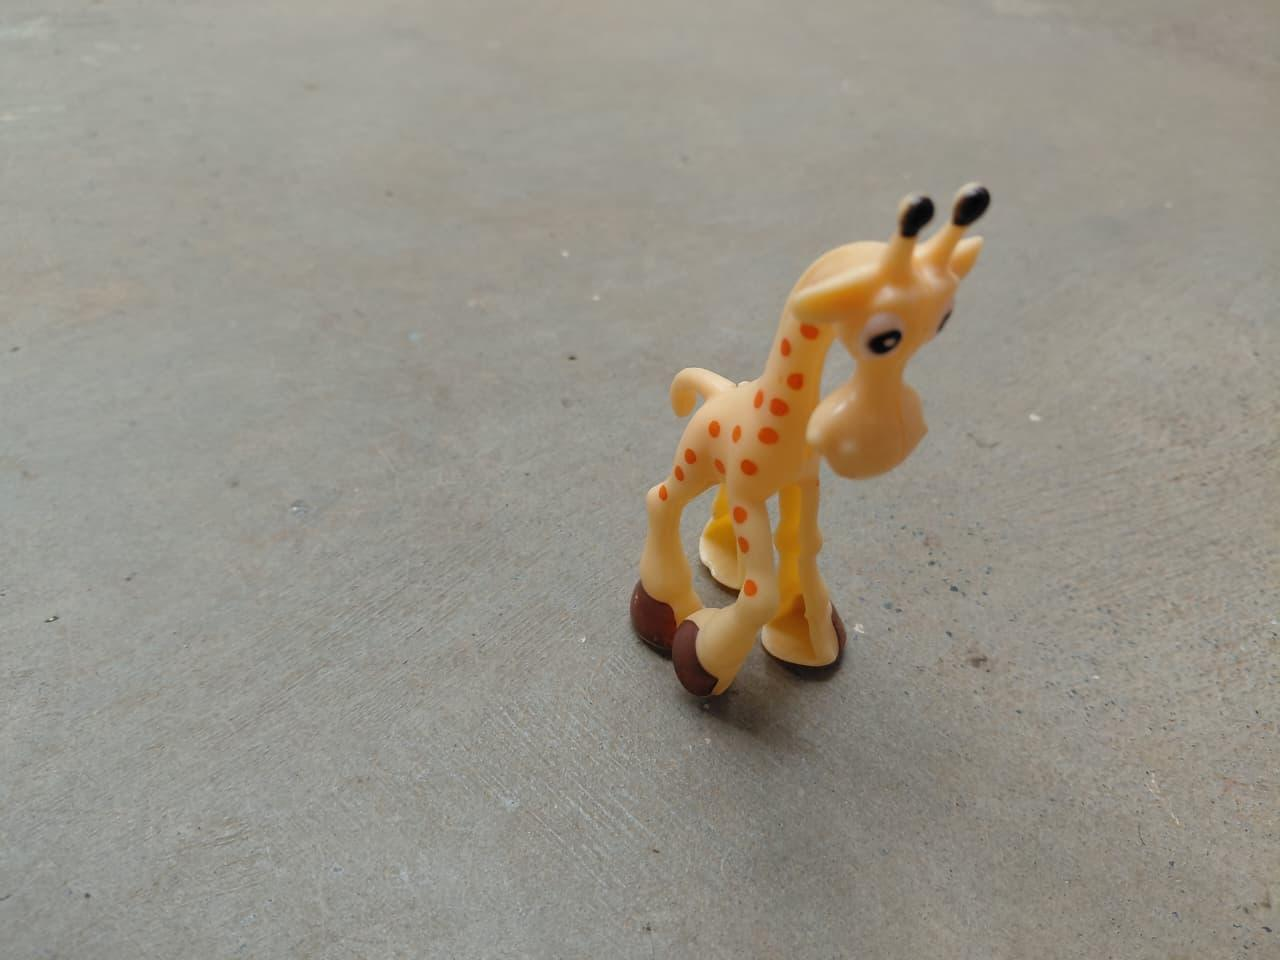giraffe: (618, 170, 1010, 737)
